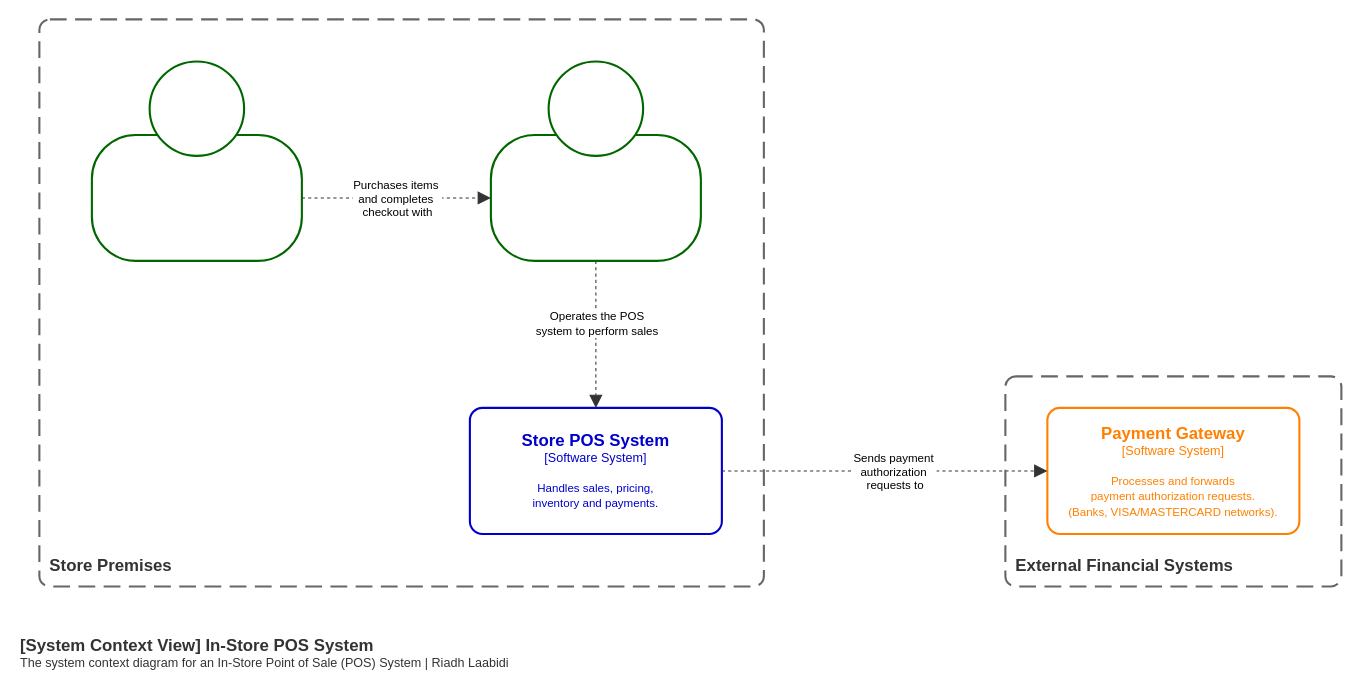
Image size: 1360x689. Some labels were removed from this diagram. Here are the shapes that lost their labels. From the top down, the centre of each, then its label:
pixel 196 197: Customer [Person] A customer of the store
pixel 595 197: Store Cashier [Person] A cashier working in the store.
